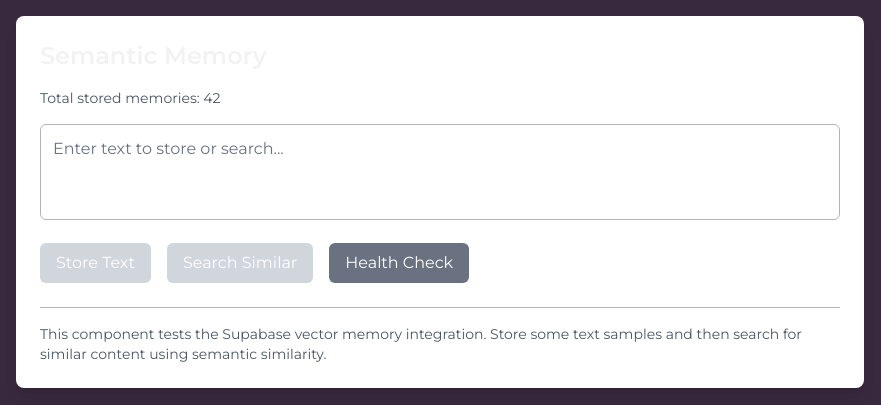
Test case: VectorMemory › store functionality › should enable store button when text is entered
In the text box with placeholder "Enter text to store or search...": (440, 172) [40,124,840,220], type "Some text"
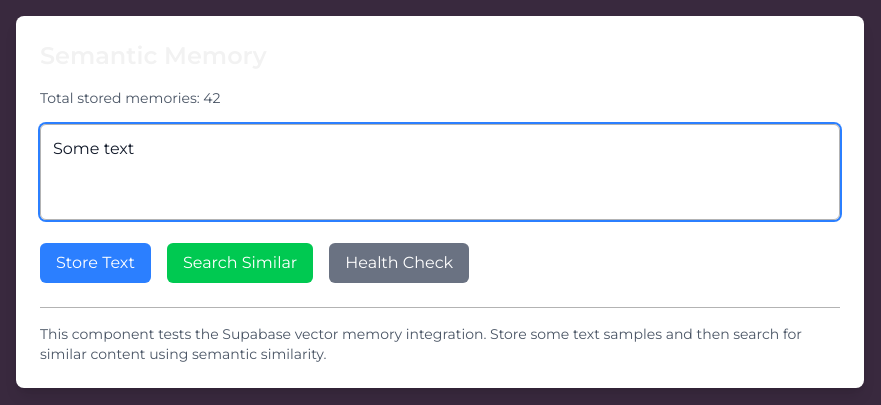
Now the button "Store Text" is enabled, box [40,243,151,283]
